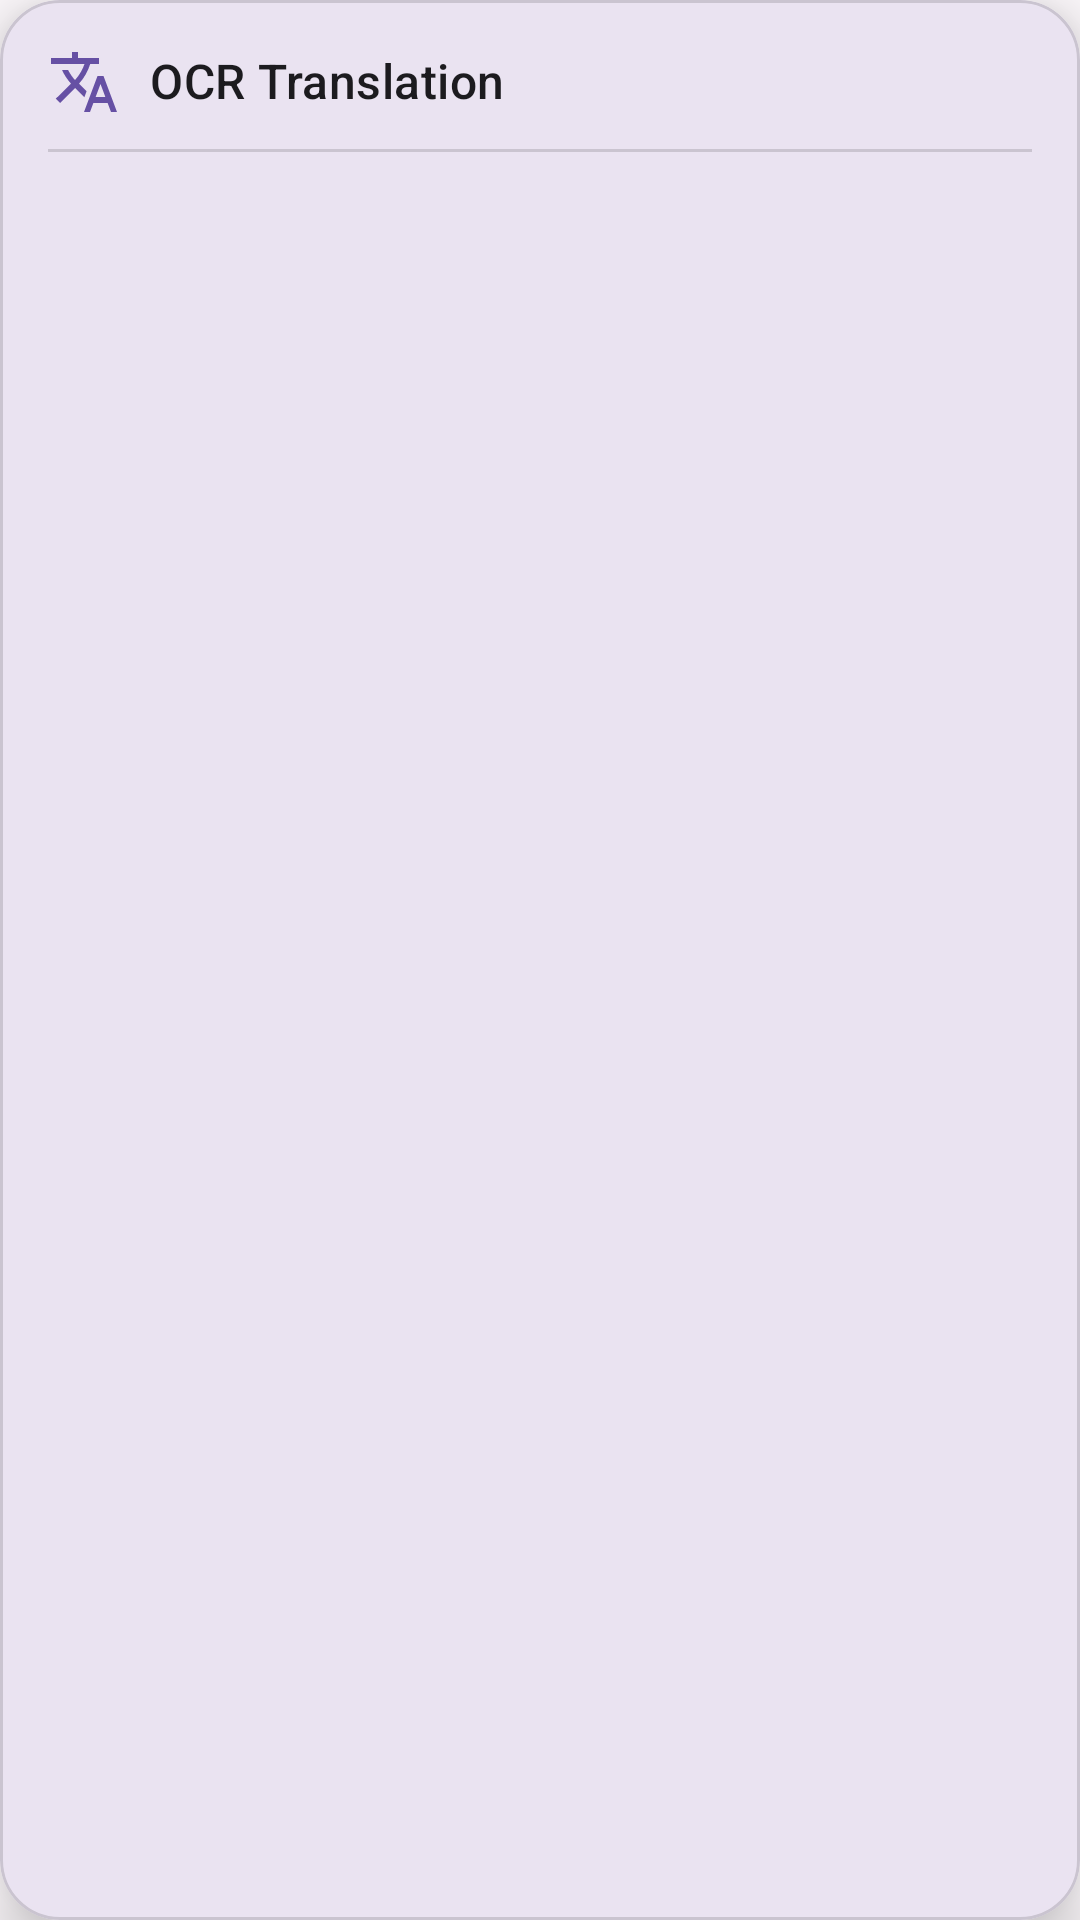

Icon click points for this 1080px×1920px phone screenshot, format point (x, y):
translate: point (84, 82)
